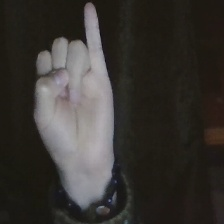I: (20, 1, 125, 160)
